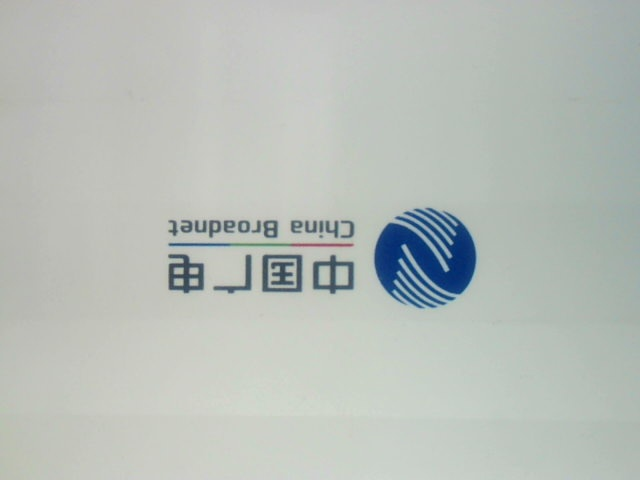AW_ChinaBroadNet: (155, 189, 480, 321)
